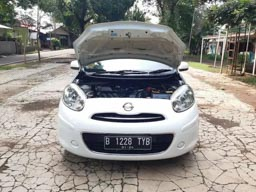plat: (104, 135, 152, 146)
